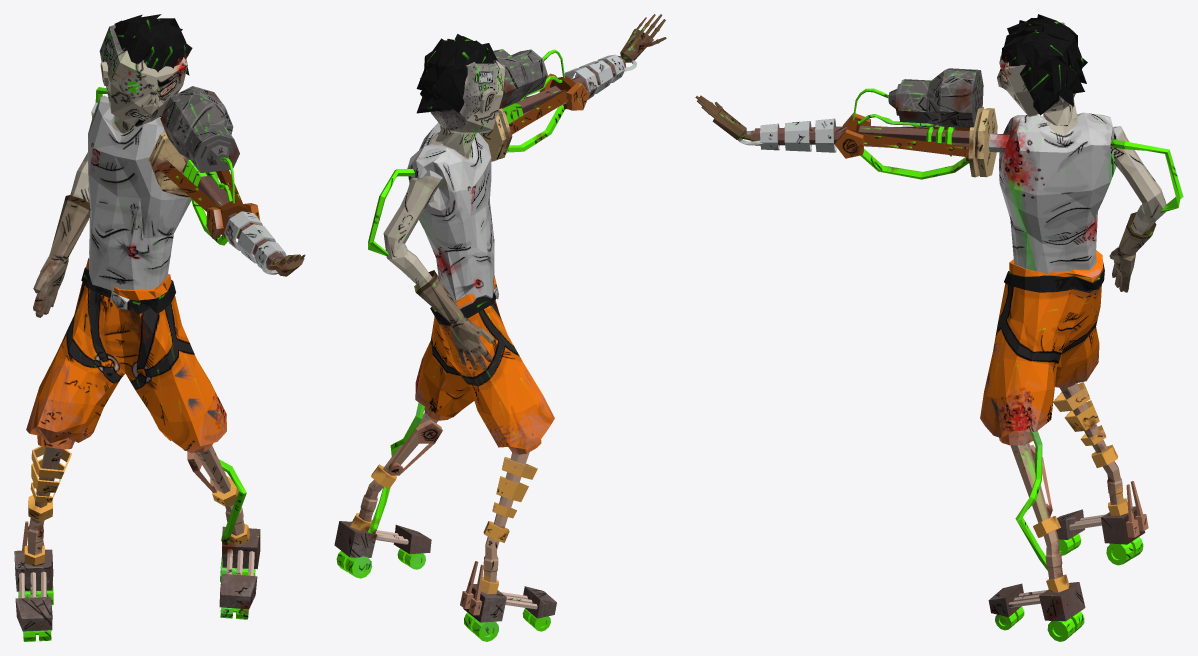
The model's file is CyborgFINALAnimation_000028.obj.
3 views of the same model, side by side, from view 1: azimuth 30°, elevation 25°; view 2: azimuth 150°, elevation 25°; view 3: azimuth 270°, elevation 25° (orthographic). The views are drawn at different scales.
Parts seen in each view (by area): view 1: CyborgMesh_Cube.002; view 2: CyborgMesh_Cube.002; view 3: CyborgMesh_Cube.002.
Part boxes in pixels (x1,y1,x2,y2): CyborgMesh_Cube.002: (14, 14, 305, 641); CyborgMesh_Cube.002: (334, 14, 666, 641); CyborgMesh_Cube.002: (695, 14, 1183, 641).
Bounding box in the file's own units: 3.9 × 9.44 × 7.26.
